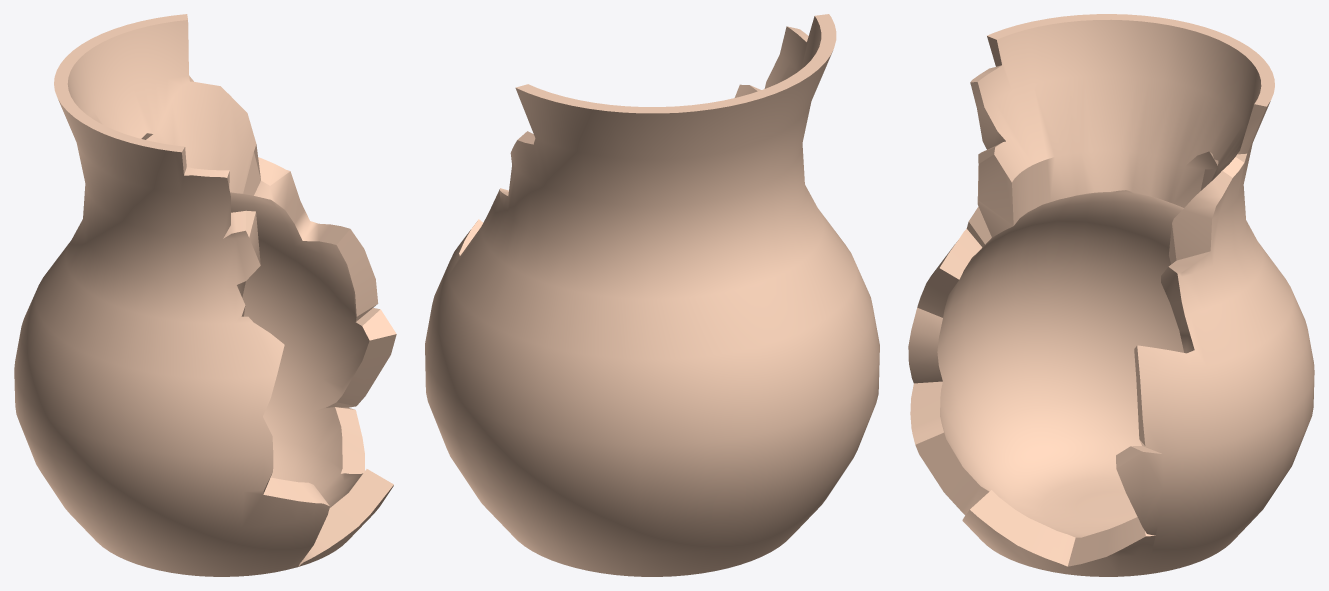
The model's file is Vase Broken.fbx.
3 views of the same model, side by side, from view 1: azimuth 30°, elevation 25°; view 2: azimuth 150°, elevation 25°; view 3: azimuth 270°, elevation 25° (orthographic). The views are drawn at different scales.
Visible parts, largest first — view 1: Pot Fat Broken.001; view 2: Pot Fat Broken.001; view 3: Pot Fat Broken.001.
Part boxes in pixels (bbox=[...]): Pot Fat Broken.001: bbox=[14, 14, 396, 576]; Pot Fat Broken.001: bbox=[425, 14, 879, 576]; Pot Fat Broken.001: bbox=[908, 14, 1314, 576].
Size of the model in its own units: 58.29 by 67.68 by 57.27.
